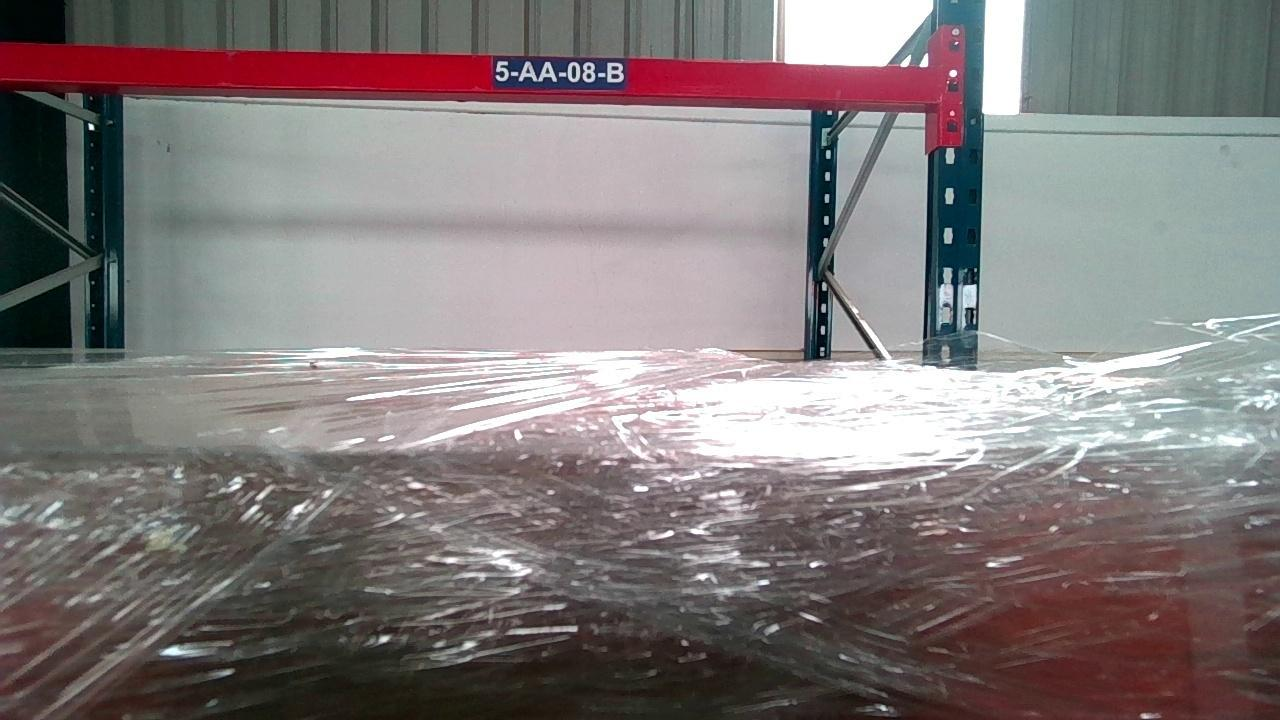h_rack: (0, 45, 937, 106)
